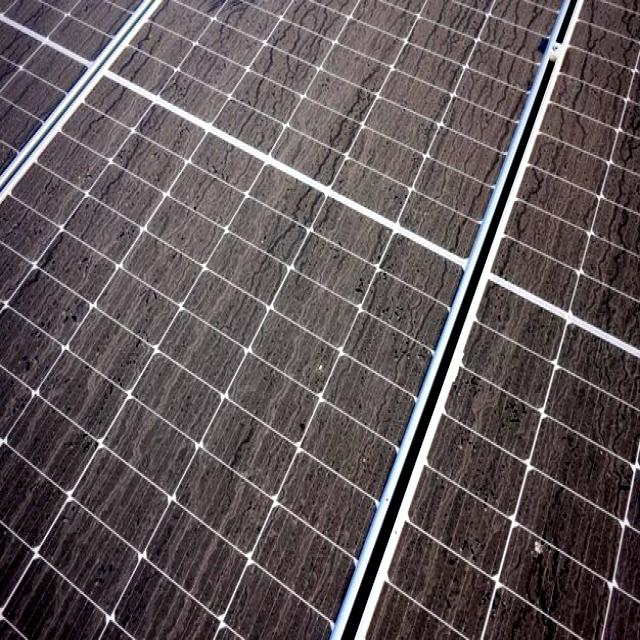dust: (484, 317, 632, 640), (266, 163, 373, 520), (0, 397, 236, 543), (7, 210, 236, 344), (296, 30, 494, 170), (84, 5, 266, 124), (12, 580, 254, 640), (545, 156, 640, 292), (398, 529, 472, 640), (0, 0, 75, 77), (274, 554, 347, 624)
